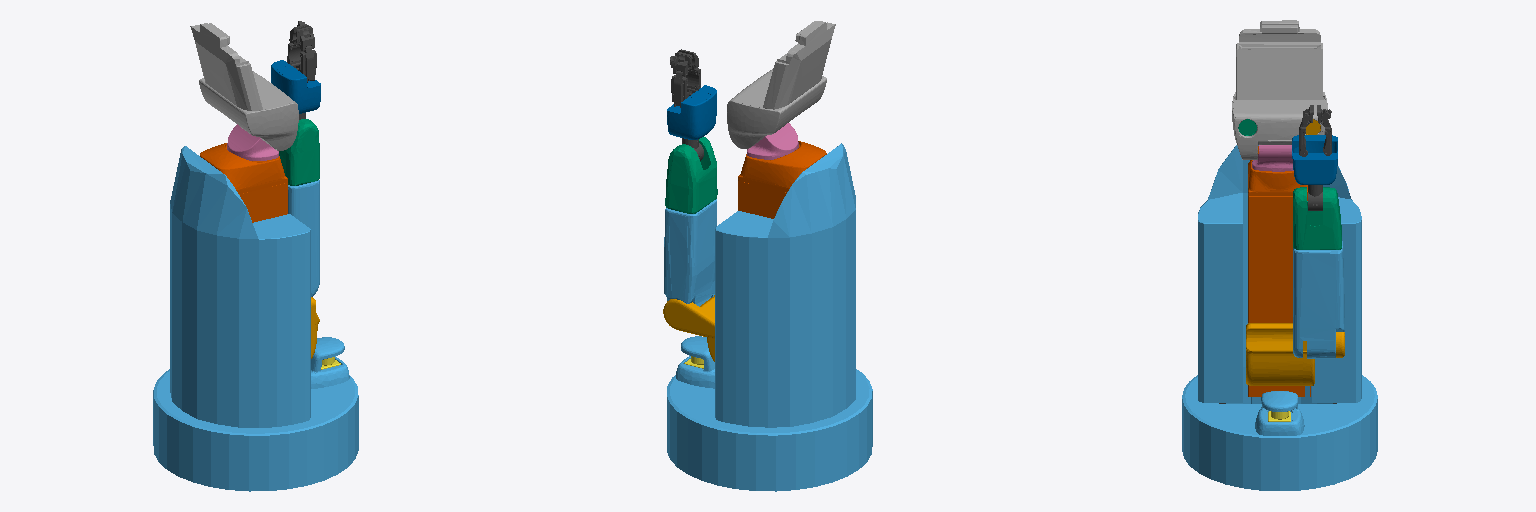
--- Render facts (derived) ---
The picture shows the robot from 3 angles, left to right: view 1: azimuth 30°, elevation 25°; view 2: azimuth 150°, elevation 25°; view 3: azimuth 270°, elevation 25°; orthographic projection.
Model hsrb with 45 links and 44 joints (15 revolute, 9 continuous, 2 prismatic, 18 fixed), rooted at base_footprint, posed all joints at 0.
Visible links, largest first — view 1: base_link, head_tilt_link, torso_lift_link, arm_roll_link, arm_flex_link, wrist_roll_link, head_pan_link; view 2: base_link, head_tilt_link, arm_flex_link, torso_lift_link, arm_roll_link, wrist_roll_link, arm_lift_link, head_pan_link; view 3: base_link, head_tilt_link, torso_lift_link, arm_flex_link, arm_lift_link, arm_roll_link, wrist_roll_link, head_pan_link.
Boxes of the visible links, x1,y1,x2,y2 form: base_link: (153,146,358,491); head_tilt_link: (190,23,298,150); torso_lift_link: (200,143,287,222); arm_roll_link: (279,119,319,185); arm_flex_link: (288,180,319,296); wrist_roll_link: (271,60,320,113); head_pan_link: (227,124,278,160); base_link: (667,143,872,491); head_tilt_link: (727,21,835,148); arm_flex_link: (664,199,716,306); torso_lift_link: (738,141,826,218); arm_roll_link: (665,137,717,213); wrist_roll_link: (667,85,716,139); arm_lift_link: (663,295,714,361); head_pan_link: (747,123,798,159); base_link: (1182,145,1377,490); head_tilt_link: (1232,20,1327,159); torso_lift_link: (1248,146,1310,396); arm_flex_link: (1293,241,1344,358); arm_lift_link: (1246,323,1344,385); arm_roll_link: (1293,187,1341,249); wrist_roll_link: (1292,135,1337,184); head_pan_link: (1252,145,1293,171).
Size in the robot's own frame: 0.4306 by 0.4306 by 1 metres.
20 mesh visuals loaded from 21 distinct referenced files (19 OBJ); not drawn: 2 (reference not matched to a file when rendering).

URDF robot description (hsrb):
<?xml version="1.0" encoding="utf-8"?>
<!-- =================================================================================== -->
<!-- |    This document was autogenerated by xacro from [local-path]/hsr/src/hsr_description/robots/hsrb4s.urdf.xacro | -->
<!-- |    EDITING THIS FILE BY HAND IS NOT RECOMMENDED                                 | -->
<!-- =================================================================================== -->
<!--
Copyright (c) 2017, Toyota Motor Corporation
All rights reserved.

Redistribution and use in source and binary forms, with or without
modification, are permitted provided that the following conditions are met:

 * Redistributions of source code must retain the above copyright notice,
   this list of conditions and the following disclaimer.
 * Redistributions in binary form must reproduce the above copyright
   notice, this list of conditions and the following disclaimer in the
   documentation and/or other materials provided with the distribution.
 * Neither the name of Toyota Motor Corporation nor the names of its
   contributors may be used to endorse or promote products derived from
   this software without specific prior written permission.

THIS SOFTWARE IS PROVIDED BY THE COPYRIGHT HOLDERS AND CONTRIBUTORS "AS IS"
AND ANY EXPRESS OR IMPLIED WARRANTIES, INCLUDING, BUT NOT LIMITED TO, THE
IMPLIED WARRANTIES OF MERCHANTABILITY AND FITNESS FOR A PARTICULAR PURPOSE
ARE DISCLAIMED. IN NO EVENT SHALL THE COPYRIGHT OWNER OR CONTRIBUTORS BE
LIABLE FOR ANY DIRECT, INDIRECT, INCIDENTAL, SPECIAL, EXEMPLARY, OR
CONSEQUENTIAL DAMAGES (INCLUDING, BUT NOT LIMITED TO, PROCUREMENT OF
SUBSTITUTE GOODS OR SERVICES; LOSS OF USE, DATA, OR PROFITS; OR BUSINESS
INTERRUPTION) HOWEVER CAUSED AND ON ANY THEORY OF LIABILITY, WHETHER IN
CONTRACT, STRICT LIABILITY, OR TORT (INCLUDING NEGLIGENCE OR OTHERWISE)
ARISING IN ANY WAY OUT OF THE USE OF THIS SOFTWARE, EVEN IF ADVISED OF THE
POSSIBILITY OF SUCH DAMAGE.
-->
<robot name="hsrb" xmlns:controller="http://playerstage.sourceforge.net/gazebo/xmlschema/#controller" xmlns:interface="http://playerstage.sourceforge.net/gazebo/xmlschema/#interface" xmlns:sensor="http://playerstage.sourceforge.net/gazebo/xmlschema/#sensor">
  <material name="body_main">
    <color rgba="1.0 0.0 0.0 1.0"/>
  </material>
  <material name="body_sub">
    <color rgba="0.3333 0.3333 0.3333 1.0"/>
  </material>
  <material name="wheel">
    <color rgba="0.2 0.2 0.2 1.0"/>
  </material>
  <material name="black">
    <color rgba="0.1 0.1 0.1 1.0"/>
  </material>
  <material name="tablet">
    <color rgba="0.1 0.1 0.2 1.0"/>
  </material>
  <!--
    ASUS Xtion PRO LIVE
    Specs from:
    http://www.asus.com/Multimedia/Xtion_PRO_LIVE/#specifications
    -->
  <link name="base_footprint"/>
  <joint name="base_footprint_joint" type="fixed">
    <parent link="base_footprint"/>
    <child link="base_link"/>
  </joint>
  <link name="base_link">
    <inertial>
      <mass value="50.00"/>
      <!-- use dummy weight to stabilize gazebo move base (real value: 11.017971)-->
      <origin xyz="-0.025978 -0.005498 0.17633"/>
      <inertia ixx="0.3742" ixy="0.000434172172" ixz="0.03088" iyy="0.3436" iyz="0.01775" izz="0.1509"/>
    </inertial>
    <visual>
      <geometry>
        <mesh filename="./meshes/base_v2/base_light.obj"/>
      </geometry>
    </visual>
    <visual>
      <geometry>
        <mesh filename="./meshes/base_v2/body_light.obj"/>
      </geometry>
    </visual>
    <visual>
      <geometry>
        <mesh filename="./meshes/base_v2/torso_base.obj"/>
      </geometry>
    </visual>
    <collision>
      <geometry>
        <mesh filename="./meshes/base_v2/base.collision.obj"/>
      </geometry>
    </collision>
  </link>
  <joint name="base_roll_joint" type="continuous">
    <origin rpy="0.0 0.0 0.0" xyz="0.0 0.0 0.0"/>
    <axis xyz="0.0 0.0 1.0"/>
    <limit effort="34.46" velocity="2.5"/>
    <parent link="base_link"/>
    <child link="base_roll_link"/>
    <dynamics damping="0.7"/>
  </joint>
  <link name="base_roll_link">
    <inertial>
      <origin xyz="-0.01948200 0.00219100 0.07101300"/>
      <mass value="10.239419"/>
      <inertia ixx="0.07671000" ixy="-0.01005000" ixz="0.00174900" iyy="0.09057000" iyz="0.00154900" izz="0.14500000"/>
    </inertial>
  </link>
  <joint name="base_r_drive_wheel_joint" type="continuous">
    <origin rpy="0.0 0.0 0.0" xyz="-0.11 -0.133 0.04"/>
    <axis xyz="0.0 1.0 0.0"/>
    <limit effort="11.067" velocity="20.8"/>
    <parent link="base_roll_link"/>
    <child link="base_r_drive_wheel_link"/>
    <dynamics damping="1.0"/>
  </joint>
  <link name="base_r_drive_wheel_link">
    <visual>
      <origin rpy="1.5707963268 0.0 0.0" xyz="0.0 0.0 0.0"/>
      <geometry>
        <cylinder length="0.03" radius="0.04"/>
      </geometry>
      <material name="wheel"/>
    </visual>
    <collision>
      <origin rpy="1.5707963268 0.0 0.0" xyz="0.0 0.0 0.0"/>
      <geometry>
        <cylinder length="0.03" radius="0.04"/>
      </geometry>
    </collision>
    <inertial>
      <mass value="0.2"/>
      <origin xyz="0 0 0"/>
      <inertia ixx="0.015" ixy="0" ixz="0" iyy="0.015" iyz="0" izz="0.015"/>
    </inertial>
  </link>
  <joint name="base_l_drive_wheel_joint" type="continuous">
    <origin rpy="0.0 0.0 0.0" xyz="-0.11 0.133 0.04"/>
    <axis xyz="0.0 1.0 0.0"/>
    <limit effort="11.067" velocity="20.8"/>
    <parent link="base_roll_link"/>
    <child link="base_l_drive_wheel_link"/>
    <dynamics damping="1.0"/>
  </joint>
  <link name="base_l_drive_wheel_link">
    <visual>
      <origin rpy="1.5707963268 0.0 0.0" xyz="0.0 0.0 0.0"/>
      <geometry>
        <cylinder length="0.03" radius="0.04"/>
      </geometry>
      <material name="wheel"/>
    </visual>
    <collision>
      <origin rpy="1.5707963268 0.0 0.0" xyz="0.0 0.0 0.0"/>
      <geometry>
        <cylinder length="0.03" radius="0.04"/>
      </geometry>
    </collision>
    <inertial>
      <mass value="0.2"/>
      <origin xyz="0 0 0"/>
      <inertia ixx="0.015" ixy="0" ixz="0" iyy="0.015" iyz="0" izz="0.015"/>
    </inertial>
  </link>
  <joint name="base_r_passive_wheel_x_frame_joint" type="continuous">
    <origin rpy="0.0 0.0 0.0" xyz="0.1495                 -0.055                 0.03"/>
    <axis xyz="1.0 0.0 0.0"/>
    <limit effort="1.0" velocity="3.0"/>
    <parent link="base_roll_link"/>
    <child link="base_r_passive_wheel_x_frame"/>
    <dynamics damping="1.0"/>
  </joint>
  <link name="base_r_passive_wheel_x_frame">
    <inertial>
      <mass value="0.2"/>
      <origin xyz="0 0 0"/>
      <inertia ixx="0.015" ixy="0" ixz="0" iyy="0.015" iyz="0" izz="0.015"/>
    </inertial>
  </link>
  <joint name="base_r_passive_wheel_y_frame_joint" type="continuous">
    <axis xyz="0.0 1.0 0.0"/>
    <limit effort="8.85" velocity="10.0"/>
    <parent link="base_r_passive_wheel_x_frame"/>
    <child link="base_r_passive_wheel_y_frame"/>
  </joint>
  <link name="base_r_passive_wheel_y_frame">
    <inertial>
      <mass value="0.2"/>
      <origin xyz="0 0 0"/>
      <inertia ixx="0.015" ixy="0" ixz="0" iyy="0.015" iyz="0" izz="0.015"/>
    </inertial>
  </link>
  <joint name="base_r_passive_wheel_z_joint" type="continuous">
    <axis xyz="0.0 0.0 1.0"/>
    <limit effort="8.85" velocity="10.0"/>
    <parent link="base_r_passive_wheel_y_frame"/>
    <child link="base_r_passive_wheel_z_link"/>
  </joint>
  <link name="base_r_passive_wheel_z_link">
    <visual>
      <geometry>
        <sphere radius="0.03"/>
      </geometry>
      <material name="wheel"/>
    </visual>
    <collision>
      <geometry>
        <sphere radius="0.03"/>
      </geometry>
    </collision>
    <inertial>
      <mass value="0.2"/>
      <origin xyz="0 0 0"/>
      <inertia ixx="0.015" ixy="0" ixz="0" iyy="0.015" iyz="0" izz="0.015"/>
    </inertial>
  </link>
  <joint name="base_l_passive_wheel_x_frame_joint" type="continuous">
    <origin rpy="0.0 0.0 0.0" xyz="0.1495                 0.055                 0.03"/>
    <axis xyz="1.0 0.0 0.0"/>
    <limit effort="1.0" velocity="3.0"/>
    <parent link="base_roll_link"/>
    <child link="base_l_passive_wheel_x_frame"/>
    <dynamics damping="1.0"/>
  </joint>
  <link name="base_l_passive_wheel_x_frame">
    <inertial>
      <mass value="0.2"/>
      <origin xyz="0 0 0"/>
      <inertia ixx="0.015" ixy="0" ixz="0" iyy="0.015" iyz="0" izz="0.015"/>
    </inertial>
  </link>
  <joint name="base_l_passive_wheel_y_frame_joint" type="continuous">
    <axis xyz="0.0 1.0 0.0"/>
    <limit effort="8.85" velocity="10.0"/>
    <parent link="base_l_passive_wheel_x_frame"/>
    <child link="base_l_passive_wheel_y_frame"/>
  </joint>
  <link name="base_l_passive_wheel_y_frame">
    <inertial>
      <mass value="0.2"/>
      <origin xyz="0 0 0"/>
      <inertia ixx="0.015" ixy="0" ixz="0" iyy="0.015" iyz="0" izz="0.015"/>
    </inertial>
  </link>
  <joint name="base_l_passive_wheel_z_joint" type="continuous">
    <axis xyz="0.0 0.0 1.0"/>
    <limit effort="8.85" velocity="10.0"/>
    <parent link="base_l_passive_wheel_y_frame"/>
    <child link="base_l_passive_wheel_z_link"/>
  </joint>
  <link name="base_l_passive_wheel_z_link">
    <visual>
      <geometry>
        <sphere radius="0.03"/>
      </geometry>
      <material name="wheel"/>
    </visual>
    <collision>
      <geometry>
        <sphere radius="0.03"/>
      </geometry>
    </collision>
    <inertial>
      <mass value="0.2"/>
      <origin xyz="0 0 0"/>
      <inertia ixx="0.015" ixy="0" ixz="0" iyy="0.015" iyz="0" izz="0.015"/>
    </inertial>
  </link>
  <joint name="base_range_sensor_joint" type="fixed">
    <origin rpy="0.0 0.0 0.0" xyz="0.1675 0.0 0.1844"/>
    <parent link="base_link"/>
    <child link="base_range_sensor_link"/>
  </joint>
  <link name="base_range_sensor_link">
    <visual>
      <geometry>
        <mesh filename="./meshes/sensors/laser.obj"/>
      </geometry>
    </visual>
    <collision>
      <geometry>
        <mesh filename="./meshes/sensors/laser.obj"/>
      </geometry>
    </collision>
  </link>
  <gazebo reference="base_range_sensor_link">
    <sensor name="base_range_sensor" type="ray">
      <pose>0 0 0 0 0 0</pose>
      <update_rate>30.0</update_rate>
      <visualize>true</visualize>
      <ray>
        <scan>
          <horizontal>
            <samples>721</samples>
            <resolution>1</resolution>
            <min_angle>-2.1</min_angle>
            <max_angle>2.1</max_angle>
          </horizontal>
        </scan>
        <range>
          <min>0.05</min>
          <max>60</max>
          <resolution>0.001</resolution>
        </range>
      </ray>
      <plugin filename="libgazebo_ros_laser.so" name="laser">
        <topicName>hsrb/base_scan</topicName>
        <frameName>base_range_sensor_link</frameName>
      </plugin>
    </sensor>
  </gazebo>
  <joint name="base_imu_frame_joint" type="fixed">
    <origin rpy="3.14159265359 0.0 0.0" xyz="0.0005 0.1296 0.181"/>
    <parent link="base_link"/>
    <child link="base_imu_frame"/>
  </joint>
  <link name="base_imu_frame"/>
  <gazebo reference="base_imu_frame">
    <sensor name="base_imu" type="imu">
      <update_rate>10.0</update_rate>
      <imu>
        <noise>
          <type>gaussian</type>
          <rate>
            <mean>0.0</mean>
            <stddev>2e-4</stddev>
            <bias_mean>0.0000075</bias_mean>
            <bias_stddev>0.0000008</bias_stddev>
          </rate>
          <accel>
            <mean>0.0</mean>
            <stddev>1.7e-2</stddev>
            <bias_mean>0.1</bias_mean>
            <bias_stddev>0.001</bias_stddev>
          </accel>
        </noise>
      </imu>
    </sensor>
  </gazebo>
  <gazebo>
    <!-- IMU Plugin is a model plugin. Then it should be atached to HSR-B model. -->
    <plugin filename="libgazebo_ros_imu.so" name="base_imu_plugin">
      <imuName>base_imu</imuName>
      <topicName>base_imu/data</topicName>
      <serviceName>base_imu/calibrate</serviceName>
      <frameName>base_imu_frame</frameName>
      <bodyName>base_link</bodyName>
      <robotNamespace>hsrb</robotNamespace>
    </plugin>
  </gazebo>
  <gazebo reference="base_link">
    <selfCollide>False</selfCollide>
    <gravity>True</gravity>
    <mu1>0.9</mu1>
    <mu2>0.9</mu2>
  </gazebo>
  <gazebo reference="base_roll_link">
    <selfCollide>False</selfCollide>
    <gravity>True</gravity>
    <mu1>0.9</mu1>
    <mu2>0.9</mu2>
  </gazebo>
  <gazebo reference="base_r_drive_wheel_link">
    <selfCollide>false</selfCollide>
    <gravity>true</gravity>
    <turnGravityOff>false</turnGravityOff>
    <kp>1000000.0</kp>
    <kd>10.0</kd>
    <mu1>1.0</mu1>
    <mu2>1.0</mu2>
    <fdir1>1 0 0</fdir1>
    <maxVel>1.0</maxVel>
    <minDepth>0.00</minDepth>
    <material value="Gazebo/FlatBlack"/>
  </gazebo>
  <gazebo reference="base_l_drive_wheel_link">
    <selfCollide>false</selfCollide>
    <gravity>true</gravity>
    <turnGravityOff>false</turnGravityOff>
    <kp>1000000.0</kp>
    <kd>10.0</kd>
    <mu1>1.0</mu1>
    <mu2>1.0</mu2>
    <fdir1>1 0 0</fdir1>
    <maxVel>1.0</maxVel>
    <minDepth>0.00</minDepth>
    <material value="Gazebo/FlatBlack"/>
  </gazebo>
  <gazebo reference="base_r_passive_wheel_z_link">
    <selfCollide>false</selfCollide>
    <gravity>true</gravity>
    <mu1>0.1</mu1>
    <mu2>0.1</mu2>
    <maxVel>1.0</maxVel>
    <material value="Gazebo/FlatBlack"/>
  </gazebo>
  <gazebo reference="base_l_passive_wheel_z_link">
    <selfCollide>false</selfCollide>
    <gravity>true</gravity>
    <mu1>0.1</mu1>
    <mu2>0.1</mu2>
    <maxVel>1.0</maxVel>
    <material value="Gazebo/FlatBlack"/>
  </gazebo>
  <gazebo reference="base_range_sensor_link">
    <selfCollide>False</selfCollide>
    <gravity>True</gravity>
    <mu1>0.9</mu1>
    <mu2>0.9</mu2>
  </gazebo>
  <gazebo reference="base_imu_frame">
    <selfCollide>False</selfCollide>
    <gravity>True</gravity>
    <mu1>0.9</mu1>
    <mu2>0.9</mu2>
  </gazebo>
  <transmission name="base_transmission">
    <type>transmission_interface/SimpleTransmission</type>
    <joint name="base_r_drive_wheel_joint">
      <hardwareInterface>VelocityJointInterface</hardwareInterface>
    </joint>
    <actuator name="base_r_drive_wheel_joint_actuator">
      <hardwareInterface>VelocityJointInterface</hardwareInterface>
      <mechanicalReduction>1</mechanicalReduction>
    </actuator>
  </transmission>
  <transmission name="base_transmission">
    <type>transmission_interface/SimpleTransmission</type>
    <joint name="base_l_drive_wheel_joint">
      <hardwareInterface>VelocityJointInterface</hardwareInterface>
    </joint>
    <actuator name="base_l_drive_wheel_joint_actuator">
      <hardwareInterface>VelocityJointInterface</hardwareInterface>
      <mechanicalReduction>1</mechanicalReduction>
    </actuator>
  </transmission>
  <transmission name="base_roll_joint_transmission">
    <type>transmission_interface/SimpleTransmission</type>
    <joint name="base_roll_joint">
      <hardwareInterface>PositionJointInterface</hardwareInterface>
    </joint>
    <actuator name="base_roll_joint_actuator">
      <hardwareInterface>PositionJointInterface</hardwareInterface>
      <mechanicalReduction>1</mechanicalReduction>
    </actuator>
  </transmission>
  <joint name="torso_lift_joint" type="prismatic">
    <origin rpy="0.0 0.0 0.0" xyz="0.0 0.0 0.752"/>
    <!-- <origin xyz="0.0 0.0 0.752" rpy="0.0 0.0 0.0" /> -->
    <axis xyz="0.0 0.0 1.0"/>
    <limit effort="100.0" lower="0.0" upper="0.345" velocity="0.1"/>
    <parent link="base_link"/>
    <child link="torso_lift_link"/>
    <mimic joint="arm_lift_joint" multiplier="0.5"/>
    <dynamics damping="500.0"/>
  </joint>
  <link name="torso_lift_link">
    <inertial>
      <mass value="3.420779"/>
      <origin xyz="-0.051142 0.003454 -0.2905"/>
      <inertia ixx="0.1045" ixy="-0.000460884801" ixz="0.000101130383" iyy="0.105" iyz="0.002941" izz="0.01284"/>
    </inertial>
    <visual>
      <geometry>
        <mesh filename="./meshes/torso_v0/torso_light.obj"/>
      </geometry>
    </visual>
    <collision>
      <geometry>
        <mesh filename="./meshes/torso_v0/torso.collision.obj"/>
      </geometry>
    </collision>
  </link>
  <gazebo reference="torso_lift_link">
    <selfCollide>False</selfCollide>
    <gravity>True</gravity>
    <mu1>0.9</mu1>
    <mu2>0.9</mu2>
  </gazebo>
  <gazebo reference="torso_lift_joint">
    </gazebo>
  <gazebo>
        </gazebo>
  <joint name="head_pan_joint" type="revolute">
    <origin rpy="0.0 0.0 0.0" xyz="0.0 0.0 0.0"/>
    <axis xyz="0.0 0.0 1.0"/>
    <limit effort="100.0" lower="-3.84" upper="1.75" velocity="1.0"/>
    <parent link="torso_lift_link"/>
    <child link="head_pan_link"/>
    <dynamics damping="1.0"/>
  </joint>
  <link name="head_pan_link">
    <inertial>
      <mass value="0.571903"/>
      <origin xyz="0.001724 -0.001969 -0.028886"/>
      <inertia ixx="0.0009711421" ixy="0.00006179487" ixz="-0.000113923121" iyy="0.00065335493" iyz="0.000069036305" izz="0.000765202576"/>
    </inertial>
    <visual>
      <geometry>
        <mesh filename="./meshes/head_v1/head_pan.obj"/>
      </geometry>
    </visual>
    <collision>
      <geometry>
        <mesh filename="./meshes/head_v1/head_pan.obj"/>
      </geometry>
    </collision>
  </link>
  <joint name="head_tilt_joint" type="revolute">
    <origin rpy="0.0 0.0 0.0" xyz="0.02 0.0 0.0"/>
    <axis xyz="0.0 -1.0 0.0"/>
    <limit effort="100.0" lower="-1.57" upper="0.52" velocity="1.0"/>
    <parent link="head_pan_link"/>
    <child link="head_tilt_link"/>
    <dynamics damping="10.0"/>
  </joint>
  <link name="head_tilt_link">
    <inertial>
      <mass value="2.123802"/>
      <origin xyz="-0.055376 -0.002436 0.117733"/>
      <inertia ixx="0.01941" ixy="-0.000138091054" ixz="0.005035" iyy="0.01498" iyz="0.000087492537" izz="0.01167"/>
    </inertial>
    <visual>
      <geometry>
        <mesh filename="./meshes/head_v1/head_upper.obj"/>
      </geometry>
    </visual>
    <visual>
      <geometry>
        <mesh filename="./meshes/head_v1/head_tilt.obj"/>
      </geometry>
    </visual>
    <visual>
      <geometry>
        <mesh filename="./meshes/head_v1/tablet_base.obj"/>
      </geometry>
    </visual>
    <collision>
      <geometry>
        <mesh filename="./meshes/head_v1/head.obj"/>
      </geometry>
    </collision>
    <collision>
      <geometry>
        <mesh filename="./meshes/head_v1/tablet.obj"/>
      </geometry>
    </collision>
  </link>
  <joint name="head_l_stereo_camera_joint" type="fixed">
    <origin rpy="-1.5707963268 0.0 -1.5707963268" xyz="0.02 0.07 0.061"/>
    <parent link="head_tilt_link"/>
    <child link="head_l_stereo_camera_link"/>
  </joint>
  <link name="head_l_stereo_camera_link">
    <visual>
      <origin rpy="0.0 0.0 0.0" xyz="0 0 0"/>
      <geometry>
        <mesh filename="./meshes/sensors/head_camera.obj"/>
      </geometry>
    </visual>
  </link>
  <joint name="head_l_stereo_camera_gazebo_frame_joint" type="fixed">
    <origin rpy="1.5707963268 -1.5707963268 0.0" xyz="0 0 0"/>
    <parent link="head_l_stereo_camera_link"/>
    <child link="head_l_stereo_camera_gazebo_frame"/>
  </joint>
  <link name="head_l_stereo_camera_gazebo_frame"/>
  <gazebo reference="head_l_stereo_camera_gazebo_frame">
    <sensor name="head_l_stereo_camera" type="camera">
      <update_rate>4.0</update_rate>
      <camera name="head_l_stereo_camera">
        <horizontal_fov>1.16762527</horizontal_fov>
        <image>
          <width>1280</width>
          <height>960</height>
          <format>R8G8B8</format>
        </image>
        <clip>
          <near>0.05</near>
          <far>100</far>
        </clip>
        <noise>
          <type>gaussian</type>
          <mean>0.0</mean>
          <stddev>0.007</stddev>
        </noise>
      </camera>
      <plugin filename="libgazebo_ros_camera.so" name="camera_controller">
        <alwaysOn>0</alwaysOn>
        <updateRate>0.0</updateRate>
        <cameraName>head_l_stereo_camera</cameraName>
        <imageTopicName>image_rect_color</imageTopicName>
        <cameraInfoTopicName>camera_info</cameraInfoTopicName>
        <frameName>head_l_stereo_camera_frame</frameName>
        <robotNamespace>hsrb</robotNamespace>
        <hackBaseline>0.0</hackBaseline>
        <distortionK1>0.0</distortionK1>
        <distortionK2>0.0</distortionK2>
        <distortionK3>0.0</distortionK3>
        <distortionT1>0.0</distortionT1>
        <distortionT2>0.0</distortionT2>
      </plugin>
    </sensor>
  </gazebo>
  <joint name="head_r_stereo_camera_joint" type="fixed">
    <origin rpy="-1.5707963268 0.0 -1.5707963268" xyz="0.02 -0.07 0.061"/>
    <parent link="head_tilt_link"/>
    <child link="head_r_stereo_camera_link"/>
  </joint>
  <link name="head_r_stereo_camera_link">
    <visual>
      <origin rpy="0.0 0.0 0.0" xyz="0 0 0"/>
      <geometry>
        <mesh filename="./meshes/sensors/head_camera.obj"/>
      </geometry>
    </visual>
  </link>
  <joint name="head_r_stereo_camera_gazebo_frame_joint" type="fixed">
    <origin rpy="1.5707963268 -1.5707963268 0.0" xyz="0 0 0"/>
    <parent link="head_r_stereo_camera_link"/>
    <child link="head_r_stereo_camera_gazebo_frame"/>
  </joint>
  <link name="head_r_stereo_camera_gazebo_frame"/>
  <gazebo reference="head_r_stereo_camera_gazebo_frame">
    <sensor name="head_r_stereo_camera" type="camera">
      <update_rate>4.0</update_rate>
      <camera name="head_r_stereo_camera">
        <horizontal_fov>1.16762527</horizontal_fov>
        <image>
          <width>1280</width>
          <height>960</height>
          <format>R8G8B8</format>
        </image>
        <clip>
          <near>0.05</near>
          <far>100</far>
        </clip>
        <noise>
          <type>gaussian</type>
          <mean>0.0</mean>
          <stddev>0.007</stddev>
        </noise>
      </camera>
      <plugin filename="libgazebo_ros_camera.so" name="camera_controller">
        <alwaysOn>0</alwaysOn>
        <updateRate>0.0</updateRate>
        <cameraName>head_r_stereo_camera</cameraName>
        <imageTopicName>image_rect_color</imageTopicName>
        <cameraInfoTopicName>camera_info</cameraInfoTopicName>
        <frameName>head_r_stereo_camera_frame</frameName>
        <robotNamespace>hsrb</robotNamespace>
        <hackBaseline>0.14</hackBaseline>
        <distortionK1>0.0</distortionK1>
        <distortionK2>0.0</distortionK2>
        <distortionK3>0.0</distortionK3>
        <distortionT1>0.0</distortionT1>
        <distortionT2>0.0</distortionT2>
      </plugin>
    </sensor>
  </gazebo>
  <joint name="head_center_camera_frame_joint" type="fixed">
    <origin rpy="-1.5707963268 0.0 -1.5707963268" xyz="0.0195 0.0 0.061"/>
    <parent link="head_tilt_link"/>
    <child link="head_center_camera_frame"/>
  </joint>
  <link name="head_center_camera_frame"/>
  <joint name="head_center_camera_gazebo_frame_joint" type="fixed">
    <origin rpy="1.5707963268 -1.5707963268 0.0" xyz="0 0 0"/>
    <parent link="head_center_camera_frame"/>
    <child link="head_center_camera_gazebo_frame"/>
  </joint>
  <link name="head_center_camera_gazebo_frame"/>
  <gazebo reference="head_center_camera_gazebo_frame">
    <sensor name="head_center_camera" type="camera">
      <update_rate>10.0</update_rate>
      <camera name="head_center_camera">
        <horizontal_fov>2.00</horizontal_fov>
        <image>
          <width>640</width>
          <height>480</height>
          <format>R8G8B8</format>
        </image>
        <clip>
          <near>0.05</near>
          <far>100</far>
        </clip>
        <noise>
          <type>gaussian</type>
          <mean>0.0</mean>
          <stddev>0.007</stddev>
        </noise>
      </camera>
      <plugin filename="libhsrb_gazebo_ros_camera.so" name="camera_controller">
        <robotNamespace>hsrb</robotNamespace>
        <alwaysOn>0</alwaysOn>
        <updateRate>0.0</updateRate>
        <cameraName>head_center_camera</cameraName>
        <imageTopicName>image_raw</imageTopicName>
        <cameraInfoTopicName>camera_info</cameraInfoTopicName>
        <frameName>head_center_camera_frame</frameName>
        <hackBaseline>0.07</hackBaseline>
        <distortionK1>0.0</distortionK1>
        <distortionK2>0.0</distortionK2>
        <distortionK3>0.0</distortionK3>
        <distortionT1>0.0</distortionT1>
        <distortionT2>0.0</distortionT2>
      </plugin>
    </sensor>
  </gazebo>
  <joint name="head_rgbd_sensor_joint" type="fixed">
    <origin rpy="-1.5707963268 0.0 -1.5707963268" xyz="-0.079796 0.022 0.215172"/>
    <parent link="head_tilt_link"/>
    <child link="head_rgbd_sensor_link"/>
  </joint>
  <link name="head_rgbd_sensor_link">
    <visual>
      <origin rpy="0.0 0.0 0.0" xyz="0 0 0"/>
      <geometry>
        <mesh filename="./meshes/sensors/rgbd_light.obj"/>
      </geometry>
    </visual>
    <collision>
      <origin rpy="0.0 0.0 0.0" xyz="0 0 0"/>
      <geometry>
        <mesh filename="./meshes/sensors/rgbd.obj"/>
      </geometry>
    </collision>
  </link>
  <joint name="head_rgbd_sensor_gazebo_frame_joint" type="fixed">
    <origin rpy="1.5707963268 -1.5707963268 0.0" xyz="0 0 0"/>
    <parent link="head_rgbd_sensor_link"/>
    <child link="head_rgbd_sensor_gazebo_frame"/>
  </joint>
  
        `
        
  <link name="head_rgbd_sensor_gazebo_frame"/>
  <gazebo reference="head_rgbd_sensor_gazebo_frame">
    <sensor name="openni_camera_camera" type="depth">
      <always_on>0</always_on>
      <update_rate>30</update_rate>
      <visualize>true</visualize>
      <camera>
        <horizontal_fov>1.047</horizontal_fov>
        <image>
          <width>640</width>
          <height>480</height>
          <format>B8G8R8</format>
        </image>
        <depth_camera>
                    </depth_camera>
        <clip>
          <near>0.1</near>
          <far>100</far>
        </clip>
      </camera>
      <plugin filename="libgazebo_ros_openni_kinect.so" name="head_rgbd_sensor_controller">
        <alwaysOn>true</alwaysOn>
        <baseline>0.2</baseline>
        <updateRate>1.0</updateRate>
        <cameraName>head_rgbd_sensor</cameraName>
        <frameName>head_rgbd_sensor_rgb_frame</frameName>
        <imageTopicName>/hsrb/head_rgbd_sensor/rgb/image_rect_color</imageTopicName>
        <cameraInfoTopicName>/hsrb/head_rgbd_sensor/rgb/camera_info</cameraInfoTopicName>
        <depthImageTopicName>/hsrb/head_rgbd_sensor/depth_registered/image_rect_raw</depthImageTopicName>
        <pointCloudTopicName>/hsrb/head_rgbd_sensor/depth_registered/rectified_points</pointCloudTopicName>
        <depthImageCameraInfoTopicName>/hsrb/head_rgbd_sensor/depth_registered/camera_info</depthImageCameraInfoTopicName>
        <pointCloudCutoff>0.5</pointCloudCutoff>
        <pointCloudCutoffMax>9.2</pointCloudCutoffMax>
        <distortionK1>0.0</distortionK1>
        <distortionK2>0.0</distortionK2>
        <distortionK3>0.0</distortionK3>
        <distortionT1>0.0</distortionT1>
        <distortionT2>0.0</distortionT2>
        <CxPrime>0.0</CxPrime>
        <Cx>0.0</Cx>
        <Cy>0.0</Cy>
        <focalLength>0.0</focalLength>
        <hackBaseline>0</hackBaseline>
      </plugin>
    </sensor>
  </gazebo>
  <gazebo reference="head_pan_link">
    <selfCollide>False</selfCollide>
    <gravity>True</gravity>
    <mu1>0.9</mu1>
    <mu2>0.9</mu2>
  </gazebo>
  <gazebo reference="head_tilt_link">
    <selfCollide>False</selfCollide>
    <gravity>True</gravity>
    <mu1>0.9</mu1>
    <mu2>0.9</mu2>
  </gazebo>
  <gazebo reference="head_l_stereo_camera_link">
    <selfCollide>False</selfCollide>
    <gravity>True</gravity>
    <mu1>0.9</mu1>
    <mu2>0.9</mu2>
  </gazebo>
  <gazebo reference="head_r_stereo_camera_link">
    <selfCollide>False</selfCollide>
    <gravity>True</gravity>
    <mu1>0.9</mu1>
    <mu2>0.9</mu2>
  </gazebo>
  <gazebo reference="head_center_camera_frame">
    <selfCollide>False</selfCollide>
    <gravity>False</gravity>
    <mu1>0.9</mu1>
    <mu2>0.9</mu2>
  </gazebo>
  <gazebo reference="head_rgbd_sensor_link">
    <selfCollide>False</selfCollide>
    <gravity>True</gravity>
    <mu1>0.9</mu1>
    <mu2>0.9</mu2>
  </gazebo>
  <gazebo reference="head_pan_joint">
  </gazebo>
  <gazebo reference="head_tilt_joint">
  </gazebo>
  <transmission name="head_pan_joint_transmission">
    <type>transmission_interface/SimpleTransmission</type>
    <joint name="head_pan_joint">
      <hardwareInterface>PositionJointInterface</hardwareInterface>
    </joint>
    <actuator name="head_pan_joint_actuator">
      <hardwareInterface>PositionJointInterface</hardwareInterface>
      <mechanicalReduction>1</mechanicalReduction>
    </actuator>
  </transmission>
  <transmission name="head_tilt_joint_transmission">
    <type>transmission_interface/SimpleTransmission</type>
    <joint name="head_tilt_joint">
      <hardwareInterface>PositionJointInterface</hardwareInterface>
    </joint>
    <actuator name="head_tilt_joint_actuator">
      <hardwareInterface>PositionJointInterface</hardwareInterface>
      <mechanicalReduction>1</mechanicalReduction>
    </actuator>
  </transmission>
  <joint name="arm_lift_joint" type="prismatic">
    <origin rpy="0.0 0.0 0.0" xyz="0.0 0.0 0.340"/>
    <axis xyz="0.0 0.0 1.0"/>
    <limit effort="100.0" lower="0.0" upper="0.69" velocity="0.2"/>
    <parent link="base_link"/>
    <child link="arm_lift_link"/>
    <dynamics damping="1.0"/>
  </joint>
  <link name="arm_lift_link">
    <inertial>
      <mass value="1.275819"/>
      <origin xyz="0.051549 0.042438 -0.064145"/>
      <inertia ixx="0.004633" ixy="0.000475272668" ixz="-0.002403" iyy="0.008065" iyz="-0.000100268629" izz="0.007672"/>
    </inertial>
    <visual>
      <geometry>
        <mesh filename="./meshes/arm_v0/shoulder.obj"/>
      </geometry>
    </visual>
    <collision>
      <geometry>
        <mesh filename="./meshes/arm_v0/shoulder.collision.obj"/>
      </geometry>
    </collision>
  </link>
  <joint name="arm_flex_joint" type="revolute">
    <origin rpy="0.0 0.0 0.0" xyz="0.141 0.078 0.0"/>
    <axis xyz="0.0 -1.0 0.0"/>
    <limit effort="100.0" lower="-2.62" upper="0.0" velocity="1.2"/>
    <parent link="arm_lift_link"/>
    <child link="arm_flex_link"/>
    <dynamics damping="1.0"/>
  </joint>
  <link name="arm_flex_link">
    <inertial>
      <mass value="1.339295"/>
      <origin xyz="-0.000459 0.006583 0.106069"/>
      <inertia ixx="0.00889053" ixy="0.0" ixz="0.0" iyy="0.00825549" iyz="0.0" izz="0.00190511"/>
    </inertial>
    <visual>
      <geometry>
        <mesh filename="./meshes/arm_v0/arm_flex_light.obj"/>
      </geometry>
    </visual>
    <collision>
      <geometry>
        <mesh filename="./meshes/arm_v0/arm_flex.collision.obj"/>
      </geometry>
    </collision>
  </link>
  <joint name="arm_roll_joint" type="revolute">
    <origin rpy="0.0 0.0 0.0" xyz="0.005 0.0 0.345"/>
    <axis xyz="0.0 0.0 1.0"/>
    <limit effort="100.0" lower="-2.09" upper="3.84" velocity="2.0"/>
    <parent link="arm_flex_link"/>
    <child link="arm_roll_link"/>
    <dynamics damping="0.1"/>
  </joint>
  <link name="arm_roll_link">
    <inertial>
      <mass value="0.247936"/>
      <origin xyz="-0.006927 0.002039 -0.064837"/>
      <inertia ixx="0.004267" ixy="-0.000018322199" ixz="0.000017984455" iyy="0.000780923828" iyz="-0.00001392334" izz="0.00412"/>
    </inertial>
    <visual>
      <geometry>
        <mesh filename="./meshes/arm_v0/arm_roll_light.obj"/>
      </geometry>
    </visual>
    <collision>
      <geometry>
        <mesh filename="./meshes/arm_v0/arm_roll.collision.obj"/>
      </geometry>
    </collision>
  </link>
  <gazebo reference="arm_lift_link">
    <selfCollide>False</selfCollide>
    <gravity>True</gravity>
    <mu1>0.9</mu1>
    <mu2>0.9</mu2>
  </gazebo>
  <gazebo reference="arm_flex_link">
    <selfCollide>False</selfCollide>
    <gravity>True</gravity>
    <mu1>0.9</mu1>
    <mu2>0.9</mu2>
  </gazebo>
  <gazebo reference="arm_roll_link">
    <selfCollide>False</selfCollide>
    <gravity>True</gravity>
    <mu1>0.9</mu1>
    <mu2>0.9</mu2>
  </gazebo>
  <gazebo reference="arm_lift_joint">
  </gazebo>
  <gazebo reference="arm_flex_joint">
  </gazebo>
  <gazebo reference="arm_roll_joint">
  </gazebo>
  <transmission name="arm_lift_joint_transmission">
    <type>transmission_interface/SimpleTransmission</type>
    <joint name="arm_lift_joint">
      <hardwareInterface>PositionJointInterface</hardwareInterface>
    </joint>
    <actuator name="arm_lift_joint_actuator">
      <hardwareInterface>PositionJointInterface</hardwareInterface>
      <mechanicalReduction>1</mechanicalReduction>
    </actuator>
  </transmission>
  <transmission name="arm_flex_joint_transmission">
    <type>transmission_interface/SimpleTransmission</type>
    <joint name="arm_flex_joint">
      <hardwareInterface>PositionJointInterface</hardwareInterface>
    </joint>
    <actuator name="arm_flex_joint_actuator">
      <hardwareInterface>PositionJointInterface</hardwareInterface>
      <mechanicalReduction>1</mechanicalReduction>
    </actuator>
  </transmission>
  <transmission name="arm_roll_joint_transmission">
    <type>transmission_interface/SimpleTransmission</type>
    <joint name="arm_roll_joint">
      <hardwareInterface>PositionJointInterface</hardwareInterface>
    </joint>
    <actuator name="arm_roll_joint_actuator">
      <hardwareInterface>PositionJointInterface</hardwareInterface>
      <mechanicalReduction>1</mechanicalReduction>
    </actuator>
  </transmission>
  <joint name="wrist_flex_joint" type="revolute">
    <origin rpy="0.0 0.0 0.0" xyz="0.0 0.0 0.0"/>
    <axis xyz="0.0 -1.0 0.0"/>
    <limit effort="100.0" lower="-1.92" upper="1.22" velocity="1.5"/>
    <parent link="arm_roll_link"/>
    <child link="wrist_flex_link"/>
    <dynamics damping="1.0"/>
  </joint>
  <link name="wrist_flex_link">
    <inertial>
      <mass value="0.681225"/>
      <origin xyz="0.000131 -0.003929 0.00217"/>
      <inertia ixx="0.000074353558" ixy="0.000000494515" ixz="0.000000022937" iyy="0.000038432887" iyz="-0.00000255576" izz="0.000064680918"/>
    </inertial>
    <visual>
      <geometry>
        <mesh filename="./meshes/wrist_v0/wrist_flex.obj"/>
      </geometry>
      <material name="body_sub"/>
    </visual>
    <visual>
      <origin rpy="0.0 0.0 0.0" xyz="0.0 0.0 0.04"/>
      <geometry>
        <cylinder length="0.02" radius="0.017"/>
      </geometry>
      <material name="body_sub"/>
    </visual>
    <collision>
      <origin rpy="0.0 0.0 0.0" xyz="0.0 0.0 0.03"/>
      <geometry>
        <cylinder length="0.04" radius="0.017"/>
      </geometry>
    </collision>
  </link>
  <joint name="wrist_roll_joint" type="revolute">
    <origin rpy="0.0 0.0 0.0" xyz="0.0 0.0 0.0"/>
    <axis xyz="0.0 0.0 1.0"/>
    <limit effort="100.0" lower="-1.92" upper="3.67" velocity="1.5"/>
    <parent link="wrist_flex_link"/>
    <child link="wrist_roll_link"/>
    <dynamics damping="1.0"/>
  </joint>
  <link name="wrist_roll_link">
    <inertial>
      <mass value="0.761692"/>
      <origin xyz="-0.001416 -0.001547 0.081689"/>
      <inertia ixx="0.000805633819" ixy="-0.000014431758" ixz="0.000028204659" iyy="0.000768077165" iyz="0.000022460226" izz="0.000453406611"/>
    </inertial>
    <visual>
      <geometry>
        <mesh filename="./meshes/wrist_v0/wrist_roll.obj"/>
      </geometry>
    </visual>
    <collision>
      <geometry>
        <mesh filename="./meshes/wrist_v0/wrist_roll.collision.obj"/>
      </geometry>
    </collision>
  </link>
  <joint name="wrist_ft_sensor_frame_joint" type="fixed">
    <origin rpy="3.14159265359 0.0 0.0" xyz="0.0 0.0 0.0735"/>
    <parent link="wrist_roll_link"/>
    <child link="wrist_ft_sensor_frame"/>
  </joint>
  <link name="wrist_ft_sensor_frame"/>
  <gazebo reference="wrist_roll_joint">
    <provideFeedback>true</provideFeedback>
  </gazebo>
  <gazebo>
    <plugin filename="libgazebo_ros_force.so" name="ft_sensor">
      <updateRate>30.0</updateRate>
      <topicName>wrist_wrench</topicName>
      <jointName>wrist_roll_joint</jointName>
      <bodyName>wrist_roll_link</bodyName>
      <robotNamespace>hsrb</robotNamespace>
    </plugin>
  </gazebo>
  <gazebo reference="wrist_flex_link">
    <selfCollide>False</selfCollide>
    <gravity>True</gravity>
    <mu1>0.9</mu1>
    <mu2>0.9</mu2>
  </gazebo>
  <gazebo reference="wrist_roll_link">
    <selfCollide>False</selfCollide>
    <gravity>True</gravity>
    <mu1>0.9</mu1>
    <mu2>0.9</mu2>
  </gazebo>
  <gazebo reference="wrist_ft_sensor_frame">
    <selfCollide>False</selfCollide>
    <gravity>True</gravity>
    <mu1>0.9</mu1>
    <mu2>0.9</mu2>
  </gazebo>
  <gazebo reference="wrist_flex_joint">
  </gazebo>
  <gazebo reference="wrist_roll_joint">
  </gazebo>
  <transmission name="wrist_flex_joint_transmission">
    <type>transmission_interface/SimpleTransmission</type>
    <joint name="wrist_flex_joint">
      <hardwareInterface>PositionJointInterface</hardwareInterface>
    </joint>
    <actuator name="wrist_flex_joint_actuator">
      <hardwareInterface>PositionJointInterface</hardwareInterface>
      <mechanicalReduction>1</mechanicalReduction>
    </actuator>
  </transmission>
  <transmission name="wrist_roll_joint_transmission">
    <type>transmission_interface/SimpleTransmission</type>
    <joint name="wrist_roll_joint">
      <hardwareInterface>PositionJointInterface</hardwareInterface>
    </joint>
    <actuator name="wrist_roll_joint_actuator">
      <hardwareInterface>PositionJointInterface</hardwareInterface>
      <mechanicalReduction>1</mechanicalReduction>
    </actuator>
  </transmission>
  <joint name="hand_palm_joint" type="fixed">
    <origin rpy="0.0 0.0 3.14159265359" xyz="0.012 0.0 0.1405"/>
    <parent link="wrist_roll_link"/>
    <child link="hand_palm_link"/>
  </joint>
  <link name="hand_palm_link">
    <inertial>
      <mass value="0.15"/>
      <inertia ixx="0.015" ixy="0.0" ixz="0.0" iyy="0.015" iyz="0.0" izz="0.015"/>
    </inertial>
    <visual>
      <geometry>
        <mesh filename="./meshes/hand_v0/palm.obj"/>
      </geometry>
      <material name="body_sub"/>
    </visual>
    <collision>
      <geometry>
        <mesh filename="./meshes/hand_v0/palm.obj"/>
      </geometry>
    </collision>
  </link>
  <joint name="hand_motor_joint" type="revolute">
    <axis xyz="1.0 0.0 0.0"/>
    <limit effort="100.0" lower="-0.798" upper="1.24" velocity="1.0"/>
    <parent link="hand_palm_link"/>
    <child link="hand_motor_dummy_link"/>
    <dynamics damping="1.0"/>
  </joint>
  <link name="hand_motor_dummy_link">
    <inertial>
      <mass value="0.15"/>
      <inertia ixx="0.015" ixy="0.0" ixz="0.0" iyy="0.015" iyz="0.0" izz="0.015"/>
    </inertial>
  </link>
  <joint name="hand_l_proximal_joint" type="revolute">
    <origin rpy="0.0 0.0 0.0" xyz="-0.01675 -0.0245 -0.0175"/>
    <axis xyz="1.0 0.0 0.0"/>
    <limit effort="100.0" lower="-0.798" upper="1.24" velocity="1.0"/>
    <parent link="hand_palm_link"/>
    <child link="hand_l_proximal_link"/>
    <mimic joint="hand_motor_joint"/>
    <dynamics damping="1.0"/>
  </joint>
  <link name="hand_l_proximal_link">
    <inertial>
      <mass value="0.15"/>
      <inertia ixx="0.015" ixy="0.0" ixz="0.0" iyy="0.015" iyz="0.0" izz="0.015"/>
    </inertial>
  </link>
  <joint name="hand_l_spring_proximal_joint" type="revolute">
    <axis xyz="1.0 0.0 0.0"/>
    <limit effort="100.0" lower="0.0" upper="0.698" velocity="1.0"/>
    <parent link="hand_l_proximal_link"/>
    <child link="hand_l_spring_proximal_link"/>
    <dynamics damping="1.0"/>
  </joint>
  <link name="hand_l_spring_proximal_link">
    <inertial>
      <mass value="0.043589"/>
      <origin xyz="0.021418 0.00248 0.022688"/>
      <inertia ixx="0.000026033886" ixy="-0.000000144078" ixz="-0.00000198241" iyy="0.000028824811" iyz="-0.000001268421" izz="0.000005135919"/>
    </inertial>
    <visual>
      <geometry>
        <mesh filename="./meshes/hand_v0/l_proximal.obj"/>
      </geometry>
      <material name="body_sub"/>
    </visual>
    <collision>
      <geometry>
        <mesh filename="./meshes/hand_v0/l_proximal.obj"/>
      </geometry>
    </collision>
  </link>
  <joint name="hand_l_mimic_distal_joint" type="revolute">
    <origin xyz="0.0 0.0 0.07"/>
    <axis xyz="1.0 0.0 0.0"/>
    <limit effort="100.0" lower="-0.698" upper="-0.0" velocity="1.0"/>
    <parent link="hand_l_spring_proximal_link"/>
    <child link="hand_l_mimic_distal_link"/>
    <mimic joint="hand_l_spring_proximal_joint" multiplier="-1.0"/>
    <dynamics damping="1.0"/>
  </joint>
  <link name="hand_l_mimic_distal_link">
    <inertial>
      <mass value="0.15"/>
      <inertia ixx="0.015" ixy="0.0" ixz="0.0" iyy="0.015" iyz="0.0" izz="0.015"/>
    </inertial>
  </link>
  <joint name="hand_l_distal_joint" type="revolute">
    <axis xyz="1.0 0.0 0.0"/>
    <limit effort="100.0" lower="-1.24" upper="0.798" velocity="1.0"/>
    <parent link="hand_l_mimic_distal_link"/>
    <child link="hand_l_distal_link"/>
    <mimic joint="hand_motor_joint" multiplier="-1.0" offset="-0.087"/>
    <dynamics damping="1.0"/>
  </joint>
  <link name="hand_l_distal_link">
    <inertial>
      <mass value="0.027731"/>
      <origin xyz="0.011116 0.005679 0.017532"/>
      <inertia ixx="0.000004451952" ixy="0.0" ixz="0.0" iyy="0.000000503765" iyz="0.0" izz="0.000004456764"/>
    </inertial>
    <visual>
      <geometry>
        <mesh filename="./meshes/hand_v0/l_distal.obj"/>
      </geometry>
      <material name="body_sub"/>
    </visual>
    <collision>
      <geometry>
        <mesh filename="./meshes/hand_v0/l_distal.obj"/>
      </geometry>
    </collision>
  </link>
  <joint name="hand_l_finger_tip_frame_joint" type="fixed">
    <origin rpy="-1.5707963268 0.0 0.0" xyz="0.01675 0.0193 0.0379"/>
    <parent link="hand_l_distal_link"/>
    <child link="hand_l_finger_tip_frame"/>
  </joint>
  <link name="hand_l_finger_tip_frame">
    <inertial>
      <mass value="0.15"/>
      <inertia ixx="0.015" ixy="0.0" ixz="0.0" iyy="0.015" iyz="0.0" izz="0.015"/>
    </inertial>
  </link>
  <joint name="hand_l_finger_vacuum_frame_joint" type="fixed">
    <origin rpy="0.785398163398 0.0 0.0" xyz="0.00475 -0.011539 0.03322"/>
    <parent link="hand_l_distal_link"/>
    <child link="hand_l_finger_vacuum_frame"/>
  </joint>
  <link name="hand_l_finger_vacuum_frame">
    <inertial>
      <mass value="0.15"/>
      <inertia ixx="0.015" ixy="0.0" ixz="0.0" iyy="0.015" iyz="0.0" izz="0.015"/>
    </inertial>
    <visual>
      <origin rpy="0.0 0.0 0.0" xyz="0.0 0.0 -0.01"/>
      <geometry>
        <box size="0.008 0.008 0.02"/>
      </geometry>
      <material name="body_sub"/>
    </visual>
  </link>
  <joint name="hand_r_proximal_joint" type="revolute">
    <origin rpy="0.0 0.0 0.0" xyz="-0.01675 0.0245 -0.0175"/>
    <axis xyz="-1.0 0.0 0.0"/>
    <limit effort="100.0" lower="-0.798" upper="1.24" velocity="1.0"/>
    <parent link="hand_palm_link"/>
    <child link="hand_r_proximal_link"/>
    <mimic joint="hand_motor_joint"/>
    <dynamics damping="1.0"/>
  </joint>
  <link name="hand_r_proximal_link">
    <inertial>
      <mass value="0.15"/>
      <inertia ixx="0.015" ixy="0.0" ixz="0.0" iyy="0.015" iyz="0.0" izz="0.015"/>
    </inertial>
  </link>
  <joint name="hand_r_spring_proximal_joint" type="revolute">
    <axis xyz="-1.0 0.0 0.0"/>
    <limit effort="100.0" lower="0.0" upper="0.698" velocity="1.0"/>
    <parent link="hand_r_proximal_link"/>
    <child link="hand_r_spring_proximal_link"/>
    <dynamics damping="1.0"/>
  </joint>
  <link name="hand_r_spring_proximal_link">
    <inertial>
      <mass value="0.043956"/>
      <origin xyz="0.013203 0.002096 0.023311"/>
      <inertia ixx="0.00002623664" ixy="0.00000001631" ixz="0.000001281845" iyy="0.000028838232" iyz="-0.000001621709" izz="0.000004957151"/>
    </inertial>
    <visual>
      <geometry>
        <mesh filename="./meshes/hand_v0/r_proximal.obj"/>
      </geometry>
      <material name="body_sub"/>
    </visual>
    <collision>
      <geometry>
        <mesh filename="./meshes/hand_v0/r_proximal.obj"/>
      </geometry>
    </collision>
  </link>
  <joint name="hand_r_mimic_distal_joint" type="revolute">
    <origin xyz="0.0 0.0 0.07"/>
    <axis xyz="-1.0 0.0 0.0"/>
    <limit effort="100.0" lower="-0.698" upper="-0.0" velocity="1.0"/>
    <parent link="hand_r_spring_proximal_link"/>
    <child link="hand_r_mimic_distal_link"/>
    <mimic joint="hand_r_spring_proximal_joint" multiplier="-1.0"/>
    <dynamics damping="1.0"/>
  </joint>
  <link name="hand_r_mimic_distal_link">
    <inertial>
      <mass value="0.15"/>
      <inertia ixx="0.015" ixy="0.0" ixz="0.0" iyy="0.015" iyz="0.0" izz="0.015"/>
    </inertial>
  </link>
  <joint name="hand_r_distal_joint" type="revolute">
    <axis xyz="-1.0 0.0 0.0"/>
    <limit effort="100.0" lower="-1.24" upper="0.798" velocity="1.0"/>
    <parent link="hand_r_mimic_distal_link"/>
    <child link="hand_r_distal_link"/>
    <mimic joint="hand_motor_joint" multiplier="-1.0" offset="-0.087"/>
    <dynamics damping="1.0"/>
  </joint>
  <link name="hand_r_distal_link">
    <inertial>
      <mass value="0.020927"/>
      <origin xyz="0.014256 -0.008321 0.015591"/>
      <inertia ixx="0.00000307518" ixy="-0.00000004954" ixz="0.000000009481" iyy="0.000004074079" iyz="0.000000843648" izz="0.000002807795"/>
    </inertial>
    <visual>
      <geometry>
        <mesh filename="./meshes/hand_v0/r_distal.obj"/>
      </geometry>
      <material name="body_sub"/>
    </visual>
    <collision>
      <geometry>
        <mesh filename="./meshes/hand_v0/r_distal.obj"/>
      </geometry>
    </collision>
  </link>
  <joint name="hand_r_finger_tip_frame_joint" type="fixed">
    <origin rpy="1.5707963268 0.0 0.0" xyz="0.01675 -0.0193 0.0379"/>
    <parent link="hand_r_distal_link"/>
    <child link="hand_r_finger_tip_frame"/>
  </joint>
  <link name="hand_r_finger_tip_frame">
    <inertial>
      <mass value="0.15"/>
      <inertia ixx="0.015" ixy="0.0" ixz="0.0" iyy="0.015" iyz="0.0" izz="0.015"/>
    </inertial>
  </link>
  <joint name="hand_camera_frame_joint" type="fixed">
    <origin rpy="0.0 0.0 0.0" xyz="0.039 0.0 -0.0045"/>
    <parent link="hand_palm_link"/>
    <child link="hand_camera_frame"/>
  </joint>
  <link name="hand_camera_frame"/>
  <joint name="hand_camera_gazebo_frame_joint" type="fixed">
    <origin rpy="1.5707963268 -1.5707963268 0" xyz="0 0 0"/>
    <parent link="hand_camera_frame"/>
    <child link="hand_camera_gazebo_frame"/>
  </joint>
  <link name="hand_camera_gazebo_frame"/>
  <gazebo reference="hand_camera_gazebo_frame">
    <sensor name="hand_camera" type="camera">
      <update_rate>10.0</update_rate>
      <camera name="hand_camera">
        <horizontal_fov>2.00</horizontal_fov>
        <image>
          <width>640</width>
          <height>480</height>
          <format>R8G8B8</format>
        </image>
        <clip>
          <near>0.05</near>
          <far>100</far>
        </clip>
        <noise>
          <type>gaussian</type>
          <mean>0.0</mean>
          <stddev>0.007</stddev>
        </noise>
      </camera>
      <plugin filename="libhsrb_gazebo_ros_camera.so" name="camera_controller">
        <robotNamespace>hsrb</robotNamespace>
        <alwaysOn>0</alwaysOn>
        <updateRate>0.0</updateRate>
        <cameraName>hand_camera</cameraName>
        <imageTopicName>image_raw</imageTopicName>
        <cameraInfoTopicName>camera_info</cameraInfoTopicName>
        <frameName>hand_camera_frame</frameName>
        <hackBaseline>0.07</hackBaseline>
        <distortionK1>0.0</distortionK1>
        <distortionK2>0.0</distortionK2>
        <distortionK3>0.0</distortionK3>
        <distortionT1>0.0</distortionT1>
        <distortionT2>0.0</distortionT2>
      </plugin>
    </sensor>
  </gazebo>
  <gazebo reference="hand_palm_link">
    <selfCollide>False</selfCollide>
    <gravity>True</gravity>
    <mu1>0.9</mu1>
    <mu2>0.9</mu2>
  </gazebo>
  <gazebo reference="hand_camera_frame">
    <selfCollide>False</selfCollide>
    <gravity>False</gravity>
    <mu1>0.9</mu1>
    <mu2>0.9</mu2>
  </gazebo>
  <gazebo reference="hand_l_proximal_link">
    <selfCollide>False</selfCollide>
    <gravity>True</gravity>
    <mu1>1.0</mu1>
    <mu2>1.0</mu2>
  </gazebo>
  <gazebo reference="hand_l_spring_proximal_link">
    <selfCollide>False</selfCollide>
    <gravity>True</gravity>
    <mu1>1.0</mu1>
    <mu2>1.0</mu2>
  </gazebo>
  <gazebo reference="hand_l_mimic_distal_link">
    <selfCollide>False</selfCollide>
    <gravity>True</gravity>
    <mu1>1.0</mu1>
    <mu2>1.0</mu2>
  </gazebo>
  <gazebo reference="hand_l_distal_link">
    <selfCollide>False</selfCollide>
    <gravity>True</gravity>
    <mu1>1.0</mu1>
    <mu2>1.0</mu2>
  </gazebo>
  <gazebo reference="hand_l_finger_tip_frame">
    <selfCollide>False</selfCollide>
    <gravity>False</gravity>
    <mu1>1.0</mu1>
    <mu2>1.0</mu2>
  </gazebo>
  <gazebo reference="hand_l_finger_vacuum_frame">
    <selfCollide>False</selfCollide>
    <gravity>False</gravity>
    <mu1>1.0</mu1>
    <mu2>1.0</mu2>
  </gazebo>
  <gazebo reference="hand_r_proximal_link">
    <selfCollide>False</selfCollide>
    <gravity>True</gravity>
    <mu1>1.0</mu1>
    <mu2>1.0</mu2>
  </gazebo>
  <gazebo reference="hand_r_spring_proximal_link">
    <selfCollide>False</selfCollide>
    <gravity>True</gravity>
    <mu1>1.0</mu1>
    <mu2>1.0</mu2>
  </gazebo>
  <gazebo reference="hand_r_mimic_distal_link">
    <selfCollide>False</selfCollide>
    <gravity>True</gravity>
    <mu1>1.0</mu1>
    <mu2>1.0</mu2>
  </gazebo>
  <gazebo reference="hand_r_distal_link">
    <selfCollide>False</selfCollide>
    <gravity>False</gravity>
    <mu1>1.0</mu1>
    <mu2>1.0</mu2>
  </gazebo>
  <gazebo reference="hand_r_finger_tip_frame">
    <selfCollide>False</selfCollide>
    <gravity>False</gravity>
    <mu1>1.0</mu1>
    <mu2>1.0</mu2>
  </gazebo>
  <gazebo reference="hand_palm_joint">
  </gazebo>
  <gazebo reference="hand_motor_joint">
  </gazebo>
  <gazebo reference="hand_l_proximal_joint">
  </gazebo>
  <gazebo reference="hand_l_spring_proximal_joint">
  </gazebo>
  <gazebo reference="hand_l_mimic_distal_joint">
  </gazebo>
  <gazebo reference="hand_l_distal_joint">
  </gazebo>
  <gazebo reference="hand_r_proximal_joint">
  </gazebo>
  <gazebo reference="hand_r_spring_proximal_joint">
  </gazebo>
  <gazebo reference="hand_r_mimic_distal_joint">
  </gazebo>
  <gazebo reference="hand_r_distal_joint">
  </gazebo>
  <gazebo>
        </gazebo>
  <transmission name="hand_motor_joint_transmission">
    <type>transmission_interface/SimpleTransmission</type>
    <joint name="hand_motor_joint">
      <hardwareInterface>EffortJointInterface</hardwareInterface>
    </joint>
    <actuator name="hand_motor_joint_actuator">
      <hardwareInterface>EffortJointInterface</hardwareInterface>
      <mechanicalReduction>1</mechanicalReduction>
    </actuator>
  </transmission>
  <transmission name="hand_l_spring_proximal_joint_transmission">
    <type>transmission_interface/SimpleTransmission</type>
    <joint name="hand_l_spring_proximal_joint">
      <hardwareInterface>EffortJointInterface</hardwareInterface>
    </joint>
    <actuator name="hand_l_spring_proximal_joint_actuator">
      <hardwareInterface>EffortJointInterface</hardwareInterface>
      <mechanicalReduction>1</mechanicalReduction>
    </actuator>
  </transmission>
  <transmission name="hand_r_spring_proximal_joint_transmission">
    <type>transmission_interface/SimpleTransmission</type>
    <joint name="hand_r_spring_proximal_joint">
      <hardwareInterface>EffortJointInterface</hardwareInterface>
    </joint>
    <actuator name="hand_r_spring_proximal_joint_actuator">
      <hardwareInterface>EffortJointInterface</hardwareInterface>
      <mechanicalReduction>1</mechanicalReduction>
    </actuator>
  </transmission>
  <gazebo>
    <plugin filename="libhsrb_gazebo_ros_control.so" name="hsrb_ros_control">
      <robotNamespace>hsrb</robotNamespace>
    </plugin>
    <plugin filename="libgazebo_ros_p3d.so" name="hsrb_p3d_ground_truth">
      <robotNamespace>hsrb</robotNamespace>
      <bodyName>base_footprint</bodyName>
      <topicName>odom_ground_truth</topicName>
      <frameName>map</frameName>
      <updateRate>30</updateRate>
    </plugin>
  </gazebo>
</robot>
